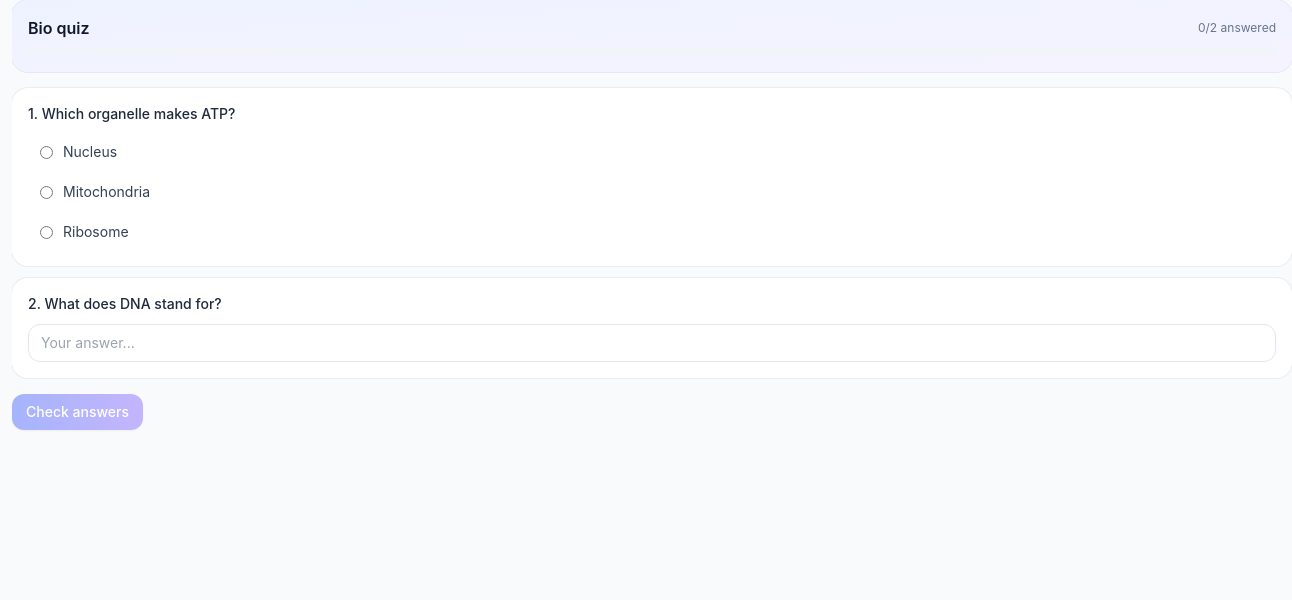
it: QuizView robustness › does not count an unanswered question as correct
The width and height of the screenshot is (1292, 600).
Click the radio button labelled "Mitochondria".
click(46, 192)  # box top-left (40, 186), bottom-right (53, 198)
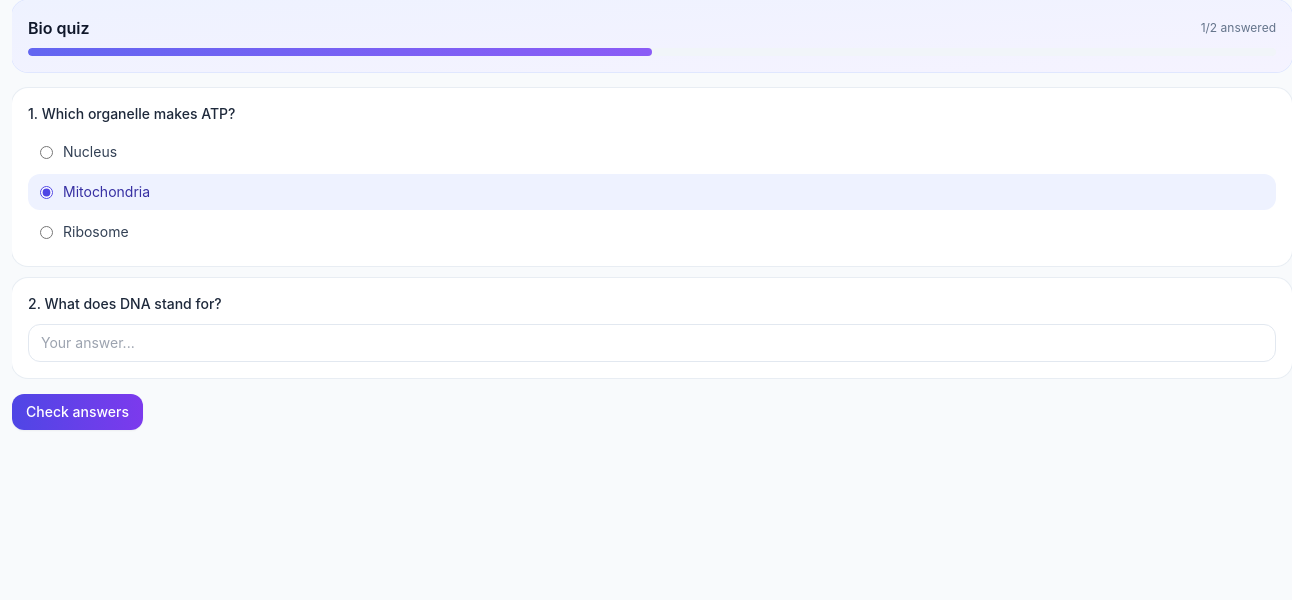
Click the button "Check answers".
click(78, 412)  # box top-left (12, 394), bottom-right (143, 430)
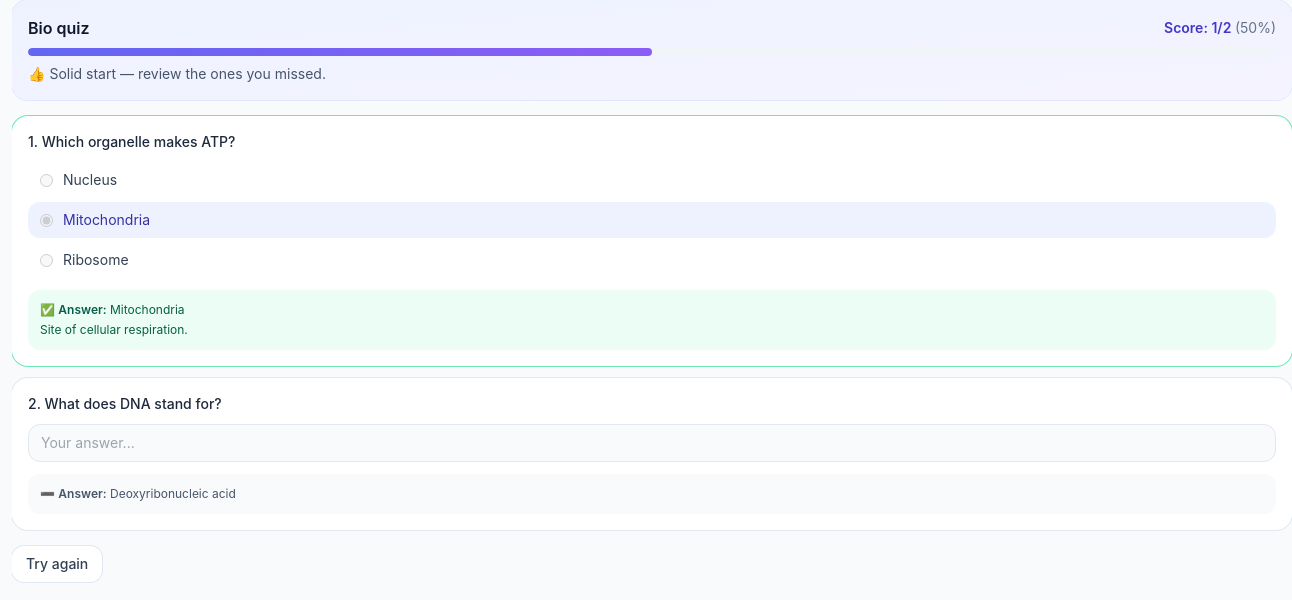
Check: the text "Score: 1/2" is shown, box top-left (1164, 19), bottom-right (1231, 36)
